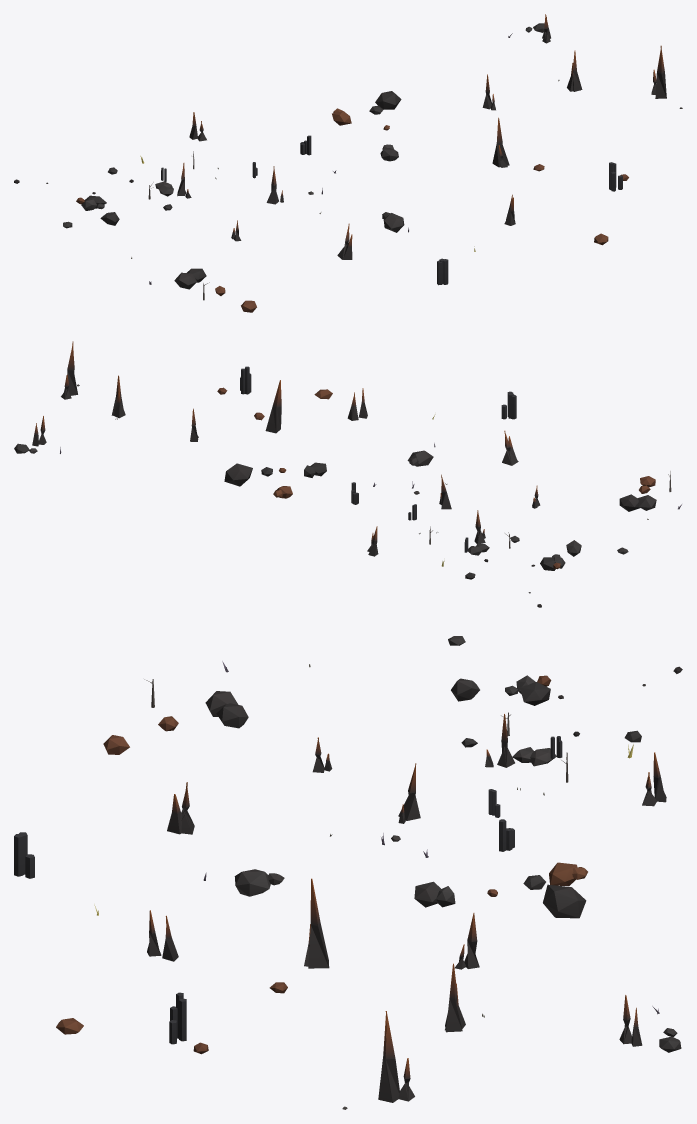
The model's file is ash_land_scatter_c21_31_lod1.glb.
3 views of the same model, one above another, from view 1: azimuth 30°, elevation 25°; view 2: azimuth 150°, elevation 25°; view 3: azimuth 270°, elevation 25° (orthographic). The views are drawn at different scales.
Visible parts, largest first — view 1: ash_land_scatter_c21_31_lod1; view 2: ash_land_scatter_c21_31_lod1; view 3: ash_land_scatter_c21_31_lod1.
Boxes of the visible parts, bbox=[...] form: ash_land_scatter_c21_31_lod1: bbox=[14, 14, 682, 312]; ash_land_scatter_c21_31_lod1: bbox=[14, 341, 681, 607]; ash_land_scatter_c21_31_lod1: bbox=[14, 636, 682, 1109].
Size of the model in its own units: 206 by 29.92 by 123.
